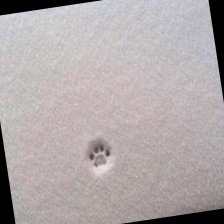cat: (85, 143, 115, 171)
